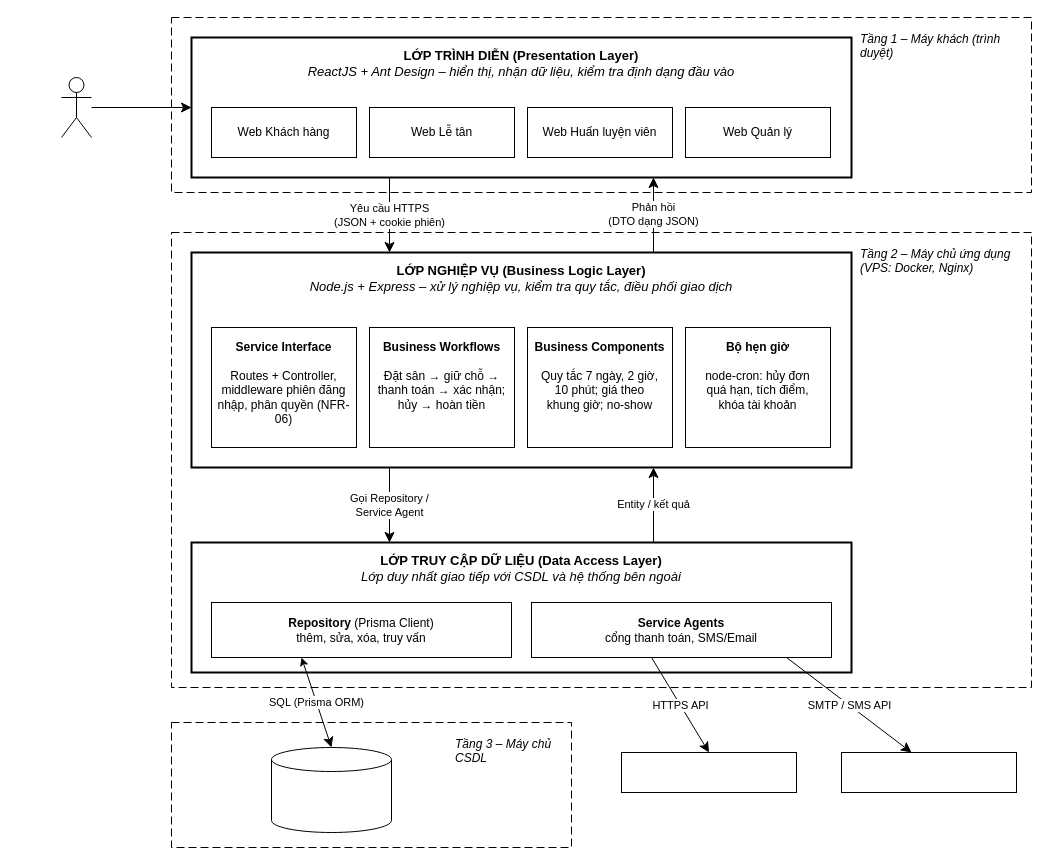
Image size: 1049x865. Some labels were removed from this diagram. Each missing label, with the centre of its shape:
"Cổng thanh toán VNPAY" belongs at [708,772].
"Dịch vụ SMS/Email" belongs at [928,772].
"MySQL 8" belongs at [331,789].
"Người dùng (Khách hàng, Lễ tân, HLV, Quản lý)" belongs at [76,107].
